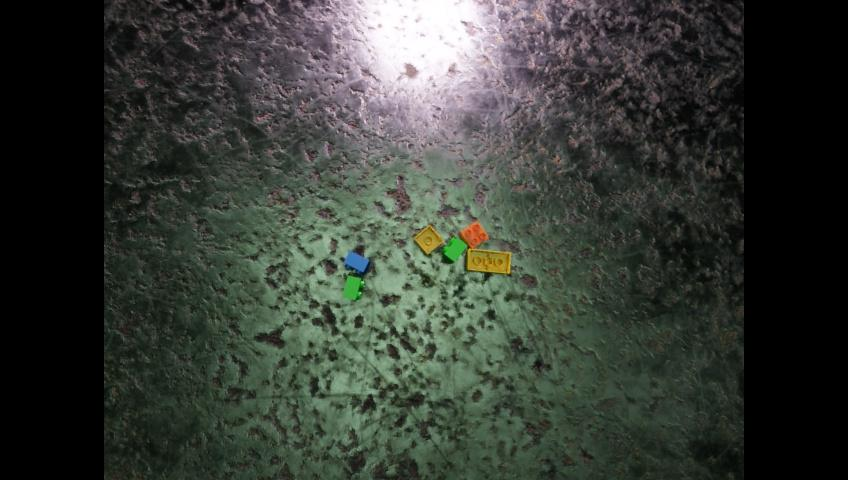2x2_blue: (343, 250, 369, 274)
2x2_green: (441, 237, 466, 263), (342, 275, 364, 299)
2x2_orange: (458, 220, 487, 249)
2x2_yellow: (413, 224, 442, 255)
4x2_yellow: (465, 248, 509, 273)
